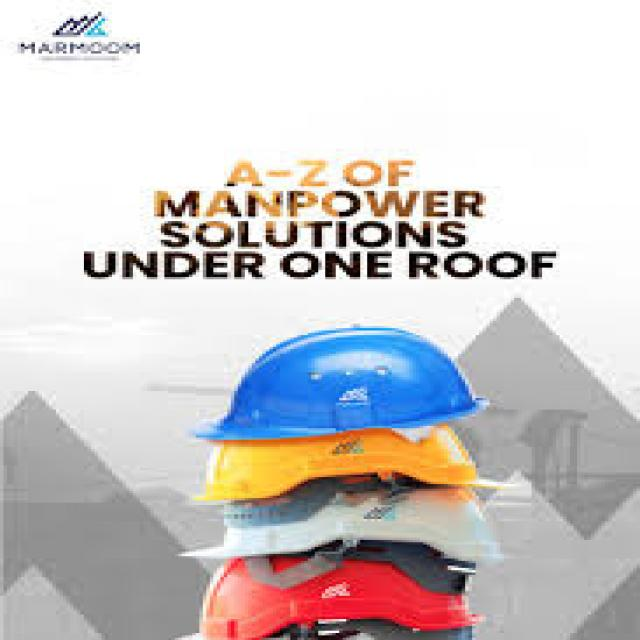Safety-Helmet: (185, 319, 490, 449), (138, 486, 530, 579), (143, 547, 507, 640), (175, 423, 518, 521)
